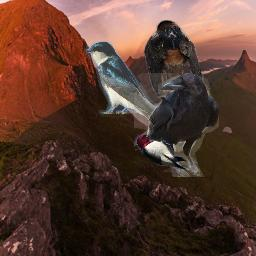Crow: (134, 73, 219, 177)
Swallow: (86, 41, 174, 126), (144, 20, 204, 102)
Woodpecker: (134, 128, 189, 170)
